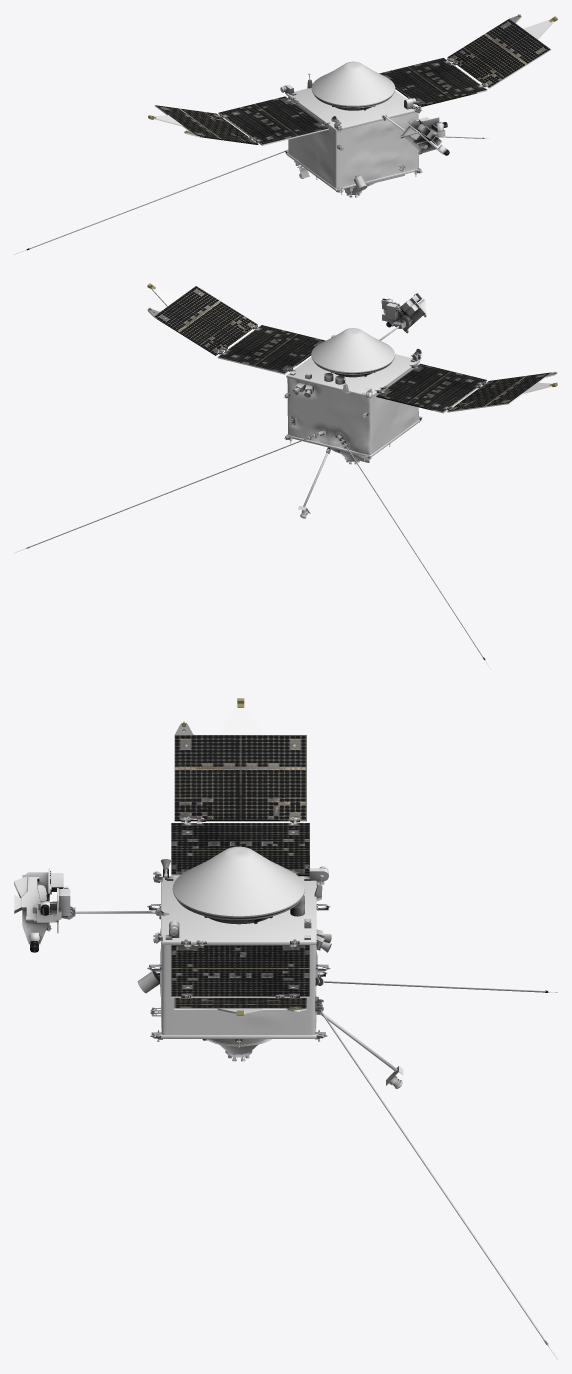
The model's file is Maven.gltf.
The picture shows the model from 3 angles, top to bottom: view 1: azimuth 30°, elevation 25°; view 2: azimuth 150°, elevation 25°; view 3: azimuth 270°, elevation 25°; orthographic projection. The views are drawn at different scales.
Parts seen in each view (by area): view 1: shiny_panel, BUS, foil_silver, tex_01, parts, dish_frame; view 2: shiny_panel, BUS, tex_01, foil_silver, parts; view 3: shiny_panel, BUS, foil_silver, parts, tex_01.
Part boxes in pixels (x1,y1,x2,y2): shiny_panel: (155,19,550,144); BUS: (286,88,446,190); foil_silver: (311,61,395,105); tex_01: (14,15,553,254); parts: (148,14,557,197); dish_frame: (311,89,395,110); shiny_panel: (154,286,550,411); BUS: (286,298,419,506); tex_01: (14,286,557,668); foil_silver: (311,328,394,372); parts: (147,283,557,518); shiny_panel: (171,735,309,1008); BUS: (30,876,397,1071); foil_silver: (172,846,304,916); parts: (14,698,403,1088); tex_01: (30,705,557,1359).
Size of the model in its own units: 13.13 by 5.42 by 8.22.
Materials: 11 (9 with a texture image).
